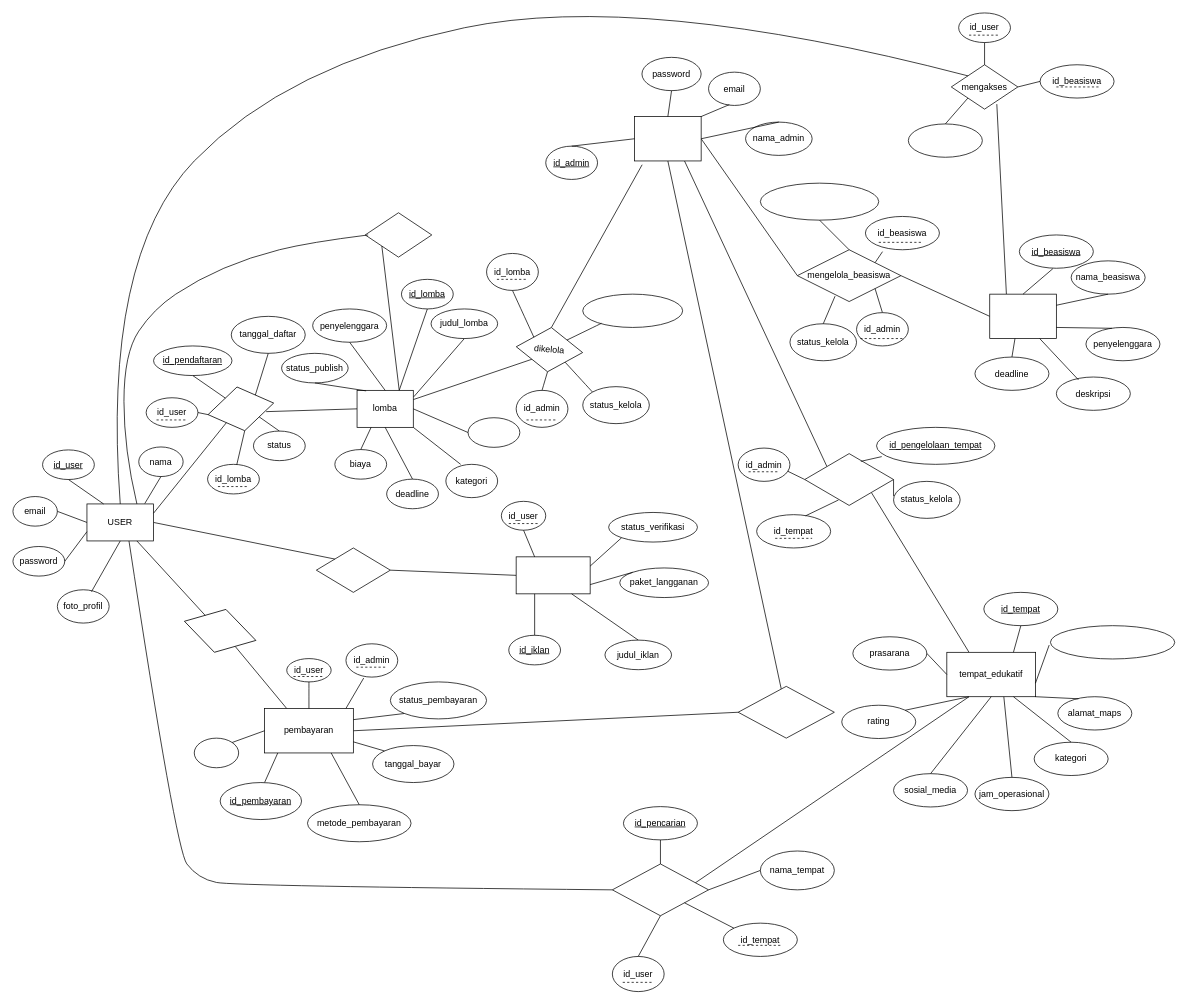
Image size: 1188x1005. Some labels were removed from this diagram. Here are the shapes that lost their labels. From the top down, the box of each, then its label:
(634, 116, 701, 161): admin
(908, 123, 982, 157): waktu_akses
(760, 182, 879, 220): id_pengelolaan_beasiswa
(364, 212, 432, 257): melihat
(582, 293, 683, 327): id_pengelolaan_lomba
(989, 293, 1056, 339): beasiswa
(203, 380, 278, 437): Mendaftar
(467, 417, 520, 447): desktipsi
(804, 453, 894, 505): mengelola_tempat
(316, 547, 390, 592): mengajukan
(515, 556, 590, 594): iklan_lomba
(178, 599, 262, 662): melakukan
(1050, 625, 1175, 659): nama_tempat_edukatif
(737, 686, 834, 738): Memverifikasi
(194, 737, 239, 768): jumlah
(612, 863, 709, 916): mencari
